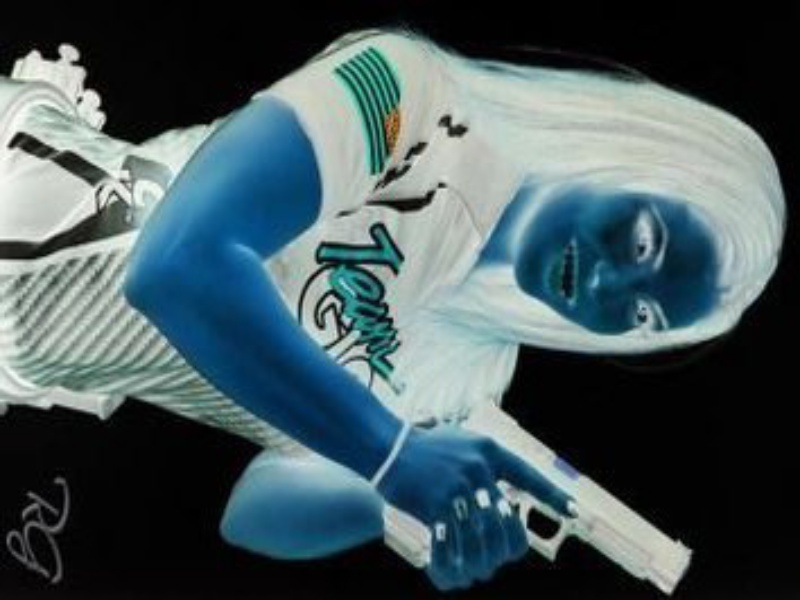knife: (205, 66, 643, 584)
